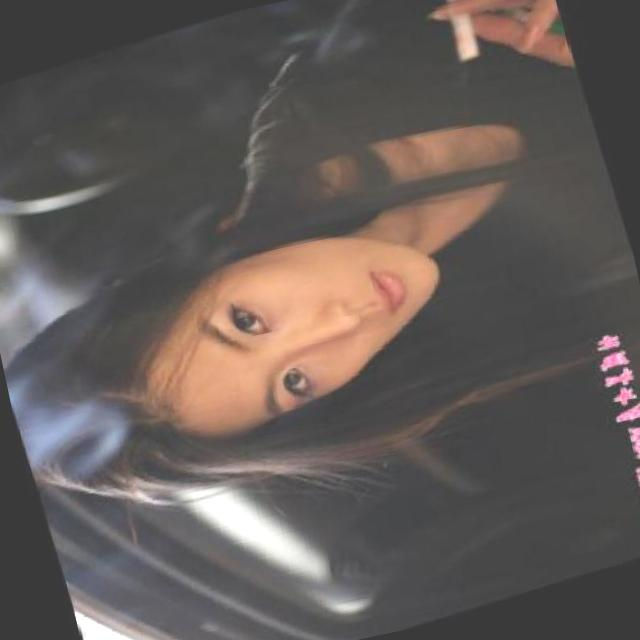smoke: (431, 0, 494, 67)
